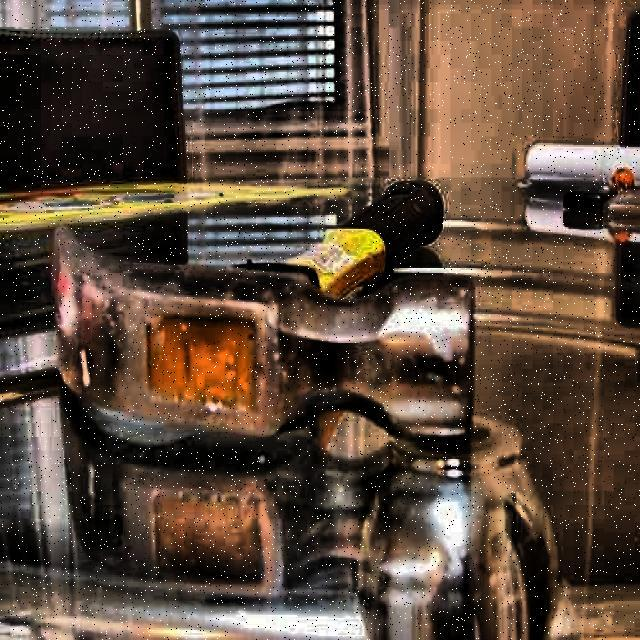hammer: (46, 176, 474, 442)
